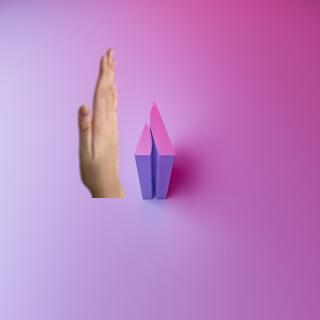Right: (73, 45, 126, 191)
